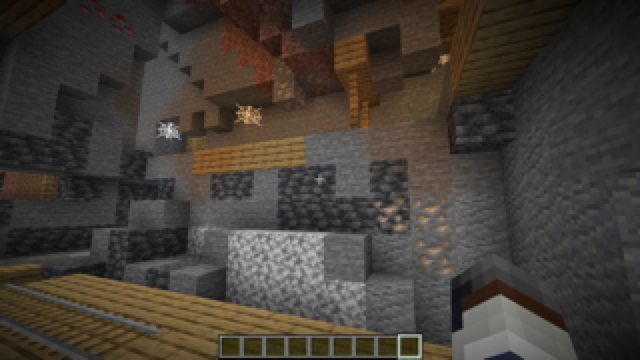iron: (370, 196, 454, 279), (273, 56, 326, 109)
redstone: (77, 1, 134, 36)
